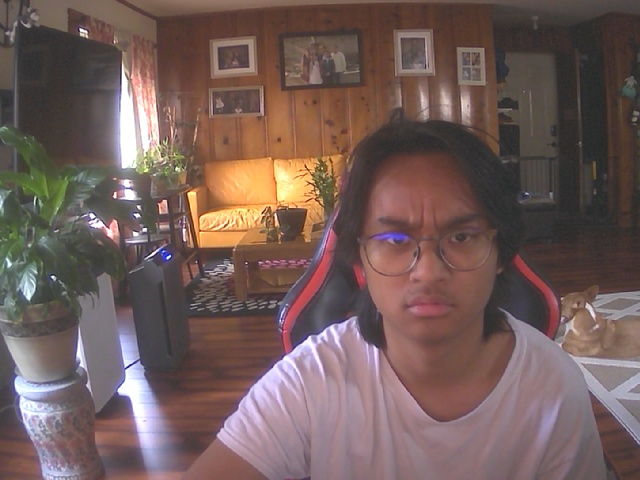anger: (354, 128, 509, 346)
